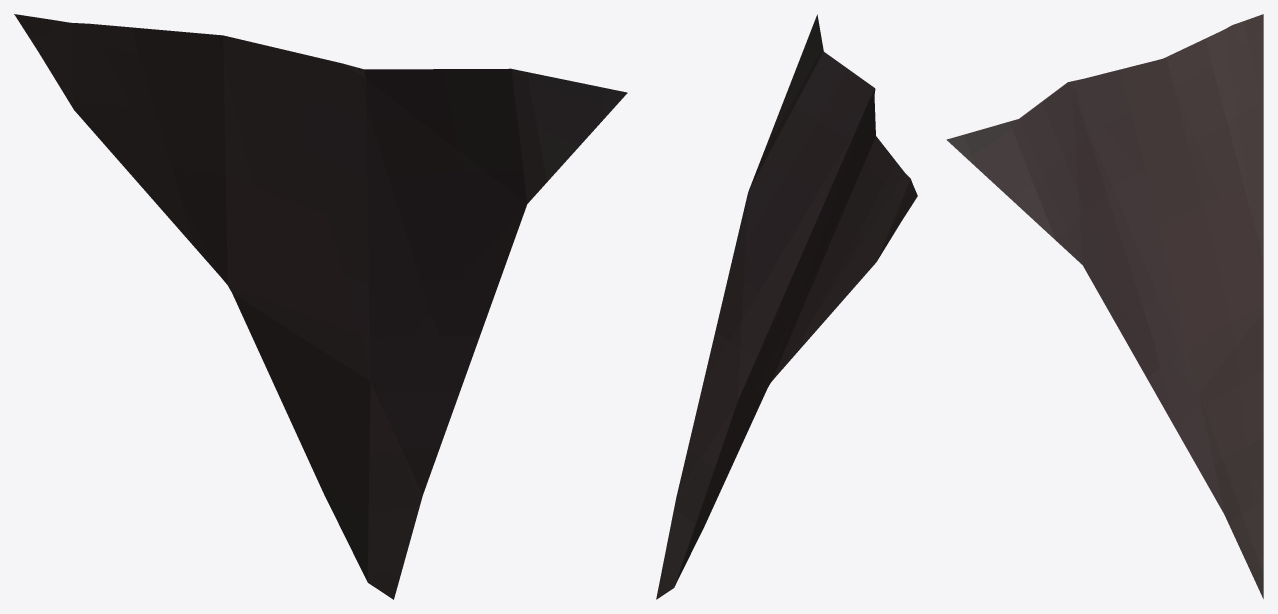
3 views of the same model, side by side, from view 1: azimuth 30°, elevation 25°; view 2: azimuth 150°, elevation 25°; view 3: azimuth 270°, elevation 25° (orthographic). The views are drawn at different scales.
Size of the model in its own units: 6.6 by 11.27 by 7.04.
Materials: 1 (1 with a texture image).
